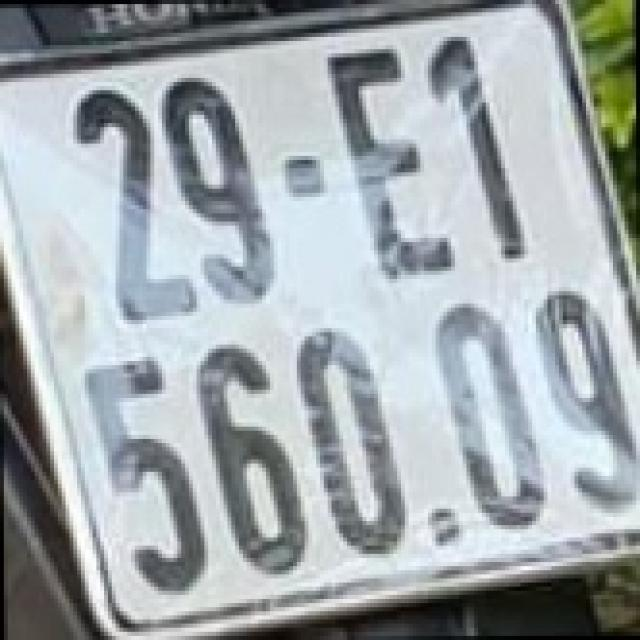0: (428, 296, 551, 534), (297, 320, 412, 558)
1: (428, 28, 540, 266)
2: (68, 78, 198, 320)
6: (89, 349, 212, 595), (197, 336, 312, 578)
9: (162, 70, 281, 312), (536, 283, 640, 513)
E: (322, 43, 453, 277)
